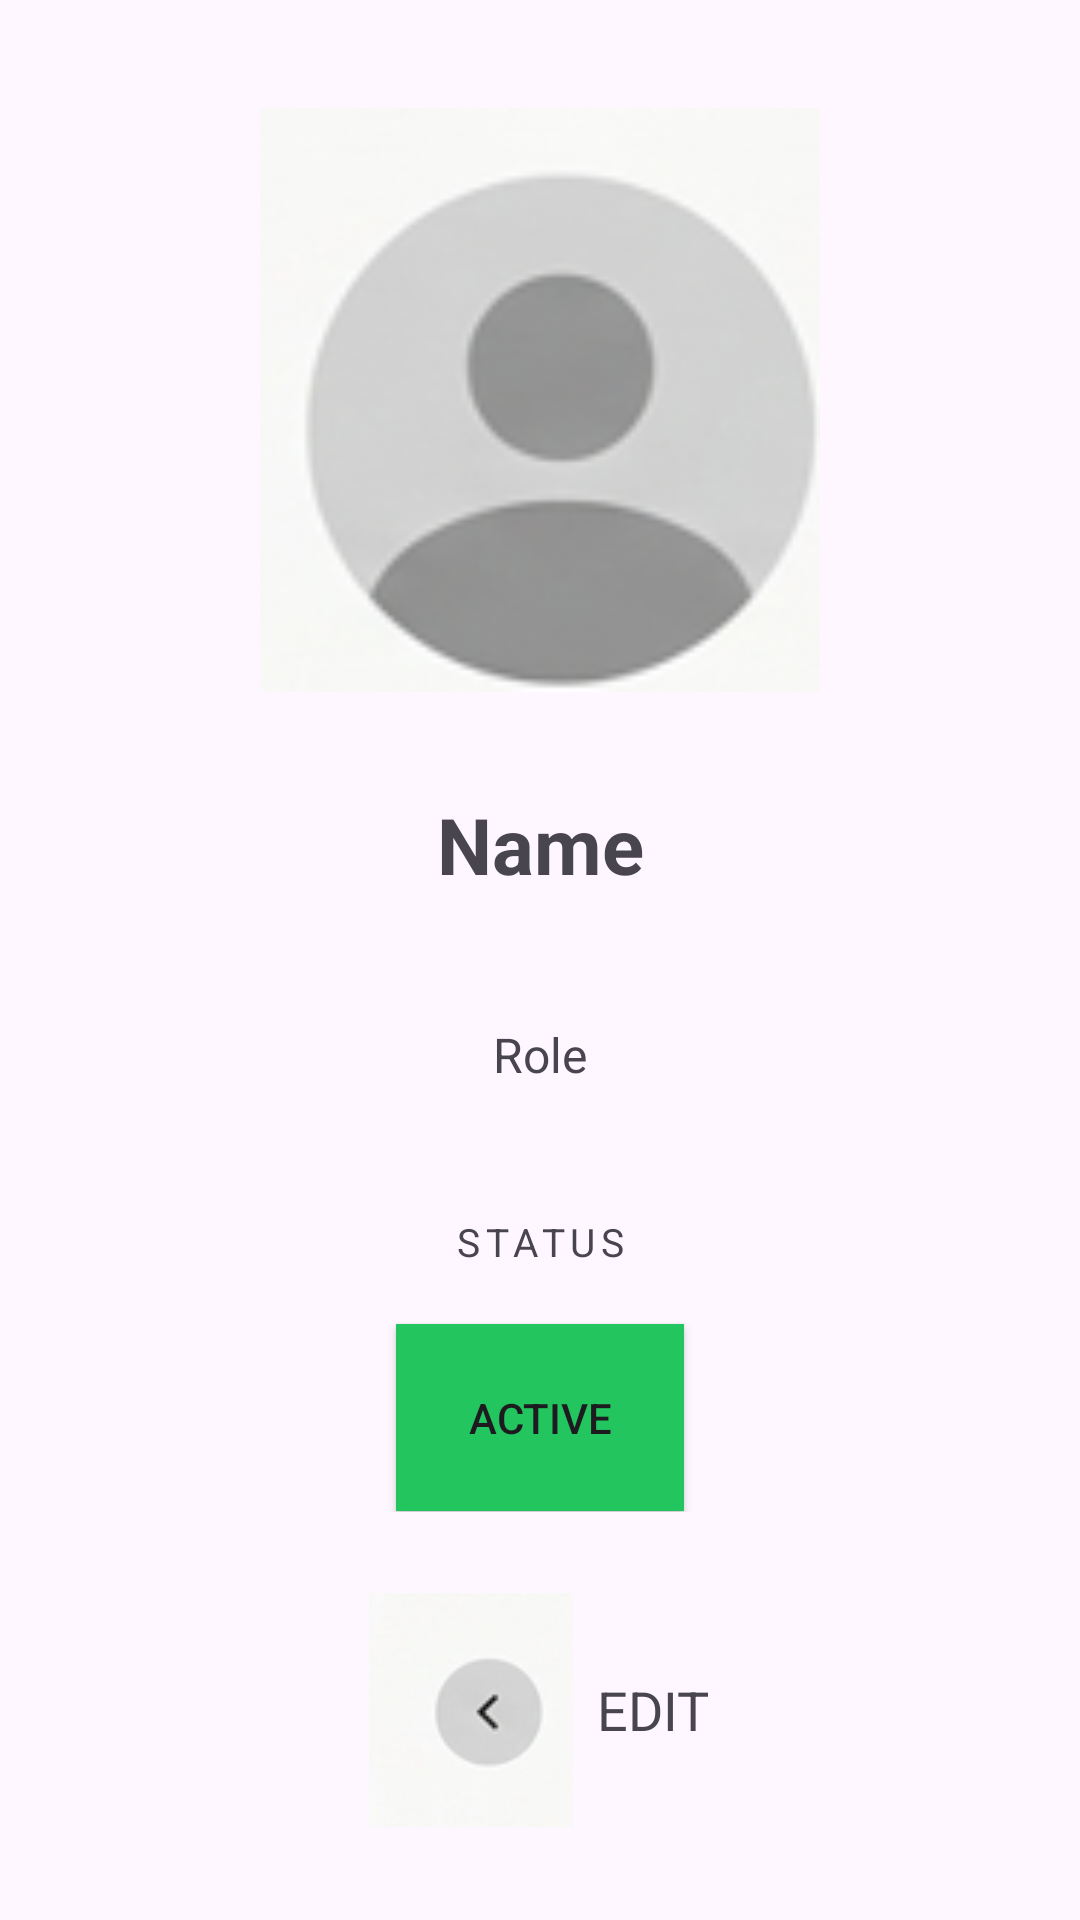

Screen size 1080×1920. Icon name, then its box in pixels as (left=x1, top=y1, right=x2, bottom=y2):
left: (left=435, top=1659, right=542, bottom=1766)
